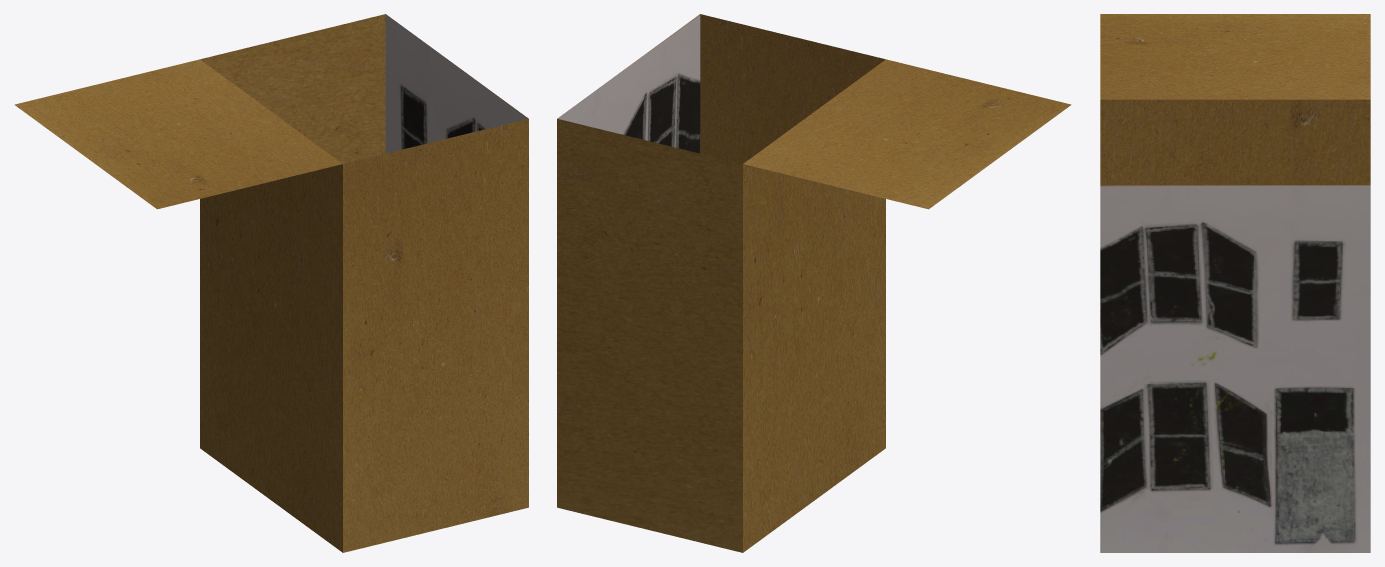
The picture shows the model from 3 angles, left to right: view 1: azimuth 30°, elevation 25°; view 2: azimuth 150°, elevation 25°; view 3: azimuth 270°, elevation 25°; orthographic projection. The views are drawn at different scales.
Parts seen in each view (by area): view 1: Cube, Cube.003, Cube.002; view 2: Cube, Cube.003, Cube.002; view 3: Cube, Cube.003, Cube.002.
Part boxes in pixels (left/top/right/bottom): Cube: left=200, top=118, right=528, bottom=552; Cube.003: left=200, top=14, right=528, bottom=163; Cube.002: left=14, top=59, right=342, bottom=209; Cube: left=557, top=118, right=885, bottom=552; Cube.003: left=557, top=14, right=885, bottom=163; Cube.002: left=743, top=59, right=1071, bottom=209; Cube: left=1100, top=185, right=1370, bottom=552; Cube.003: left=1100, top=99, right=1370, bottom=185; Cube.002: left=1100, top=14, right=1370, bottom=99.
Bounding box in the file's own units: 15 × 15 × 10.
1 material, 1 textured.
